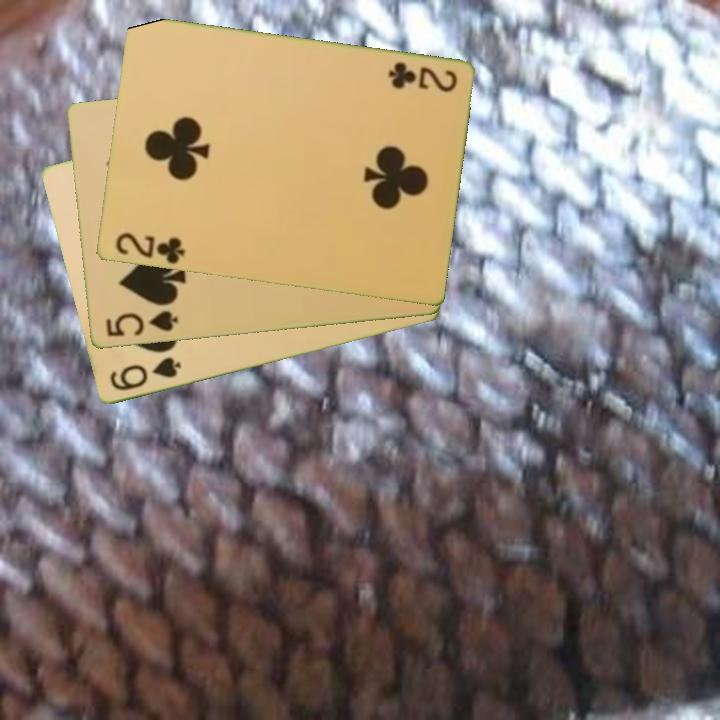2c: (111, 229, 187, 267), (384, 59, 460, 96)
5s: (102, 307, 181, 340)
6s: (106, 354, 184, 394)
